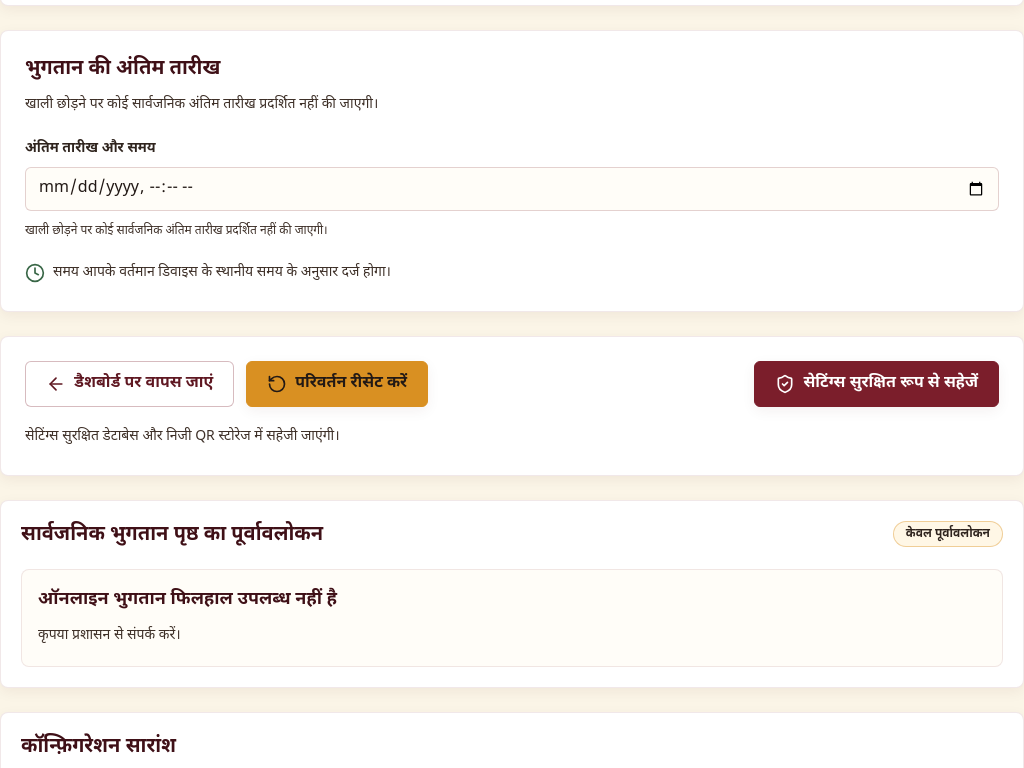
Test: PaymentSettingsForm › renders an inline save error when saving rejects
(page scrolled)
Click the button "सेटिंग्स सुरक्षित रूप से सहेजें".
click(877, 384)  # box [754, 361, 999, 407]
(page scrolled)
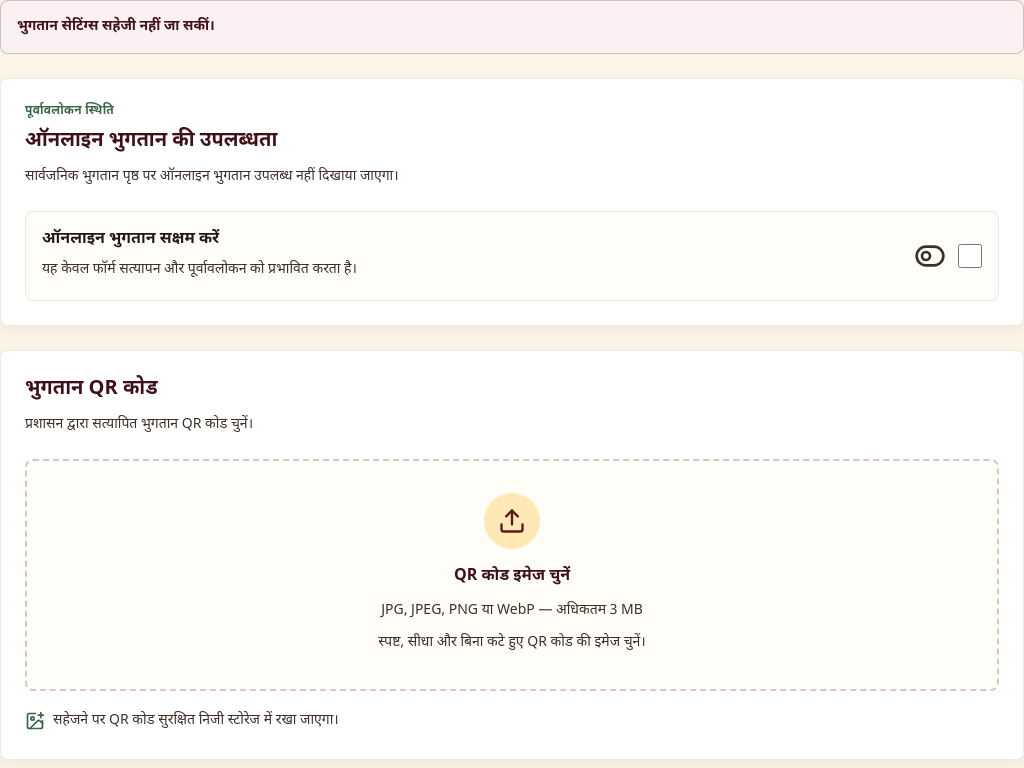
Expected: the message reads "भुगतान सेटिंग्स सहेजी नहीं जा सकीं।", [17, 17, 215, 36]
